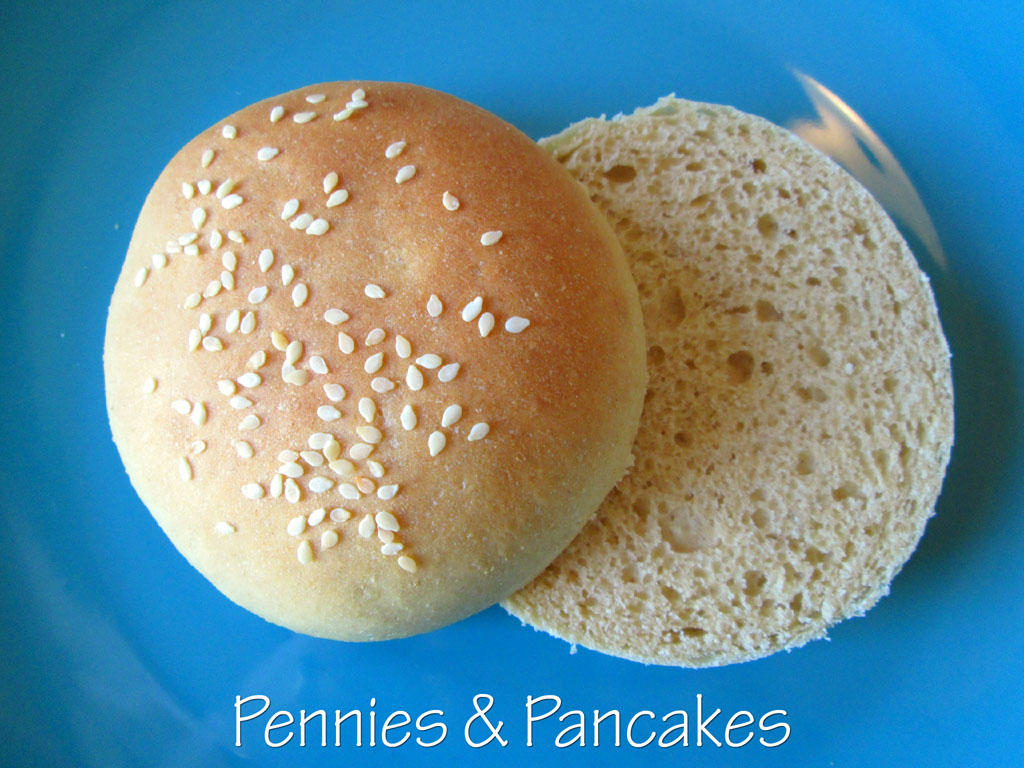hamburger_buns: (98, 88, 925, 667)
